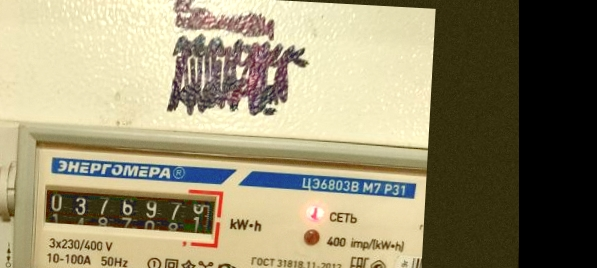0: (49, 191, 63, 212)
1: (190, 214, 202, 233)
3: (73, 195, 87, 215)
6: (120, 194, 134, 216)
7: (96, 194, 110, 216), (168, 199, 181, 222)
9: (144, 198, 157, 219)
screen: (35, 176, 228, 249)
